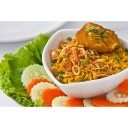briyani: (59, 24, 122, 75)
